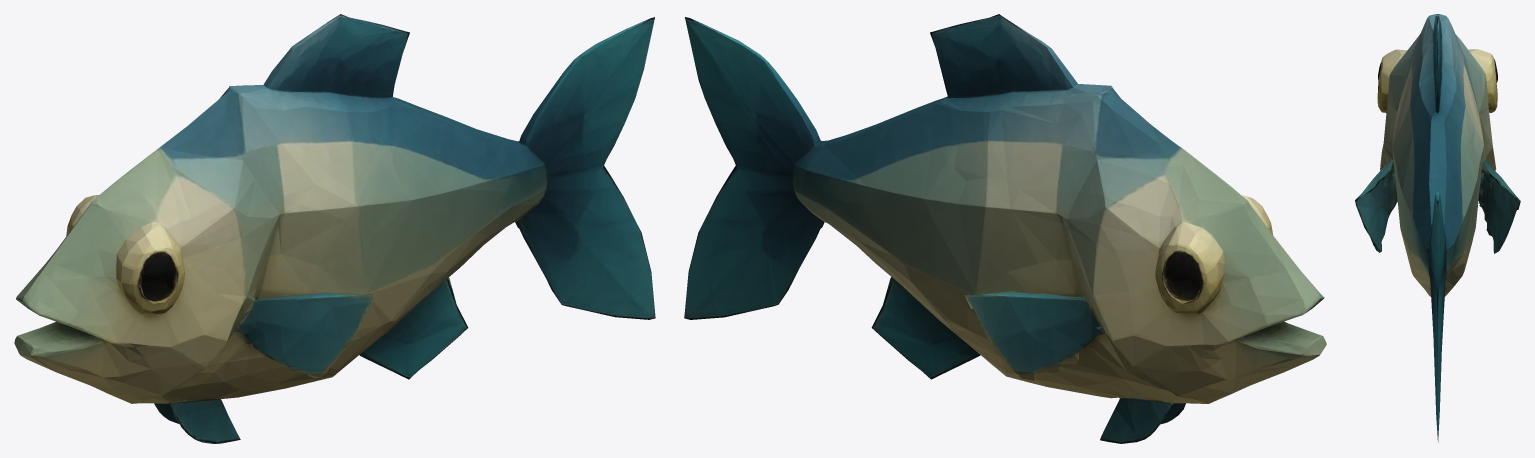
Rendered from fish.glb.
3 views of the same model, side by side, from view 1: azimuth 30°, elevation 25°; view 2: azimuth 150°, elevation 25°; view 3: azimuth 270°, elevation 25° (orthographic). The views are drawn at different scales.
Visible parts, largest first — view 1: world; view 2: world; view 3: world.
Part boxes in pixels (x1,y1,x2,y2): world: (14, 14, 655, 443); world: (684, 14, 1326, 443); world: (1355, 14, 1520, 442).
Bounding box in the file's own units: 1 × 0.591 × 0.2834.
1 material, 1 textured.
